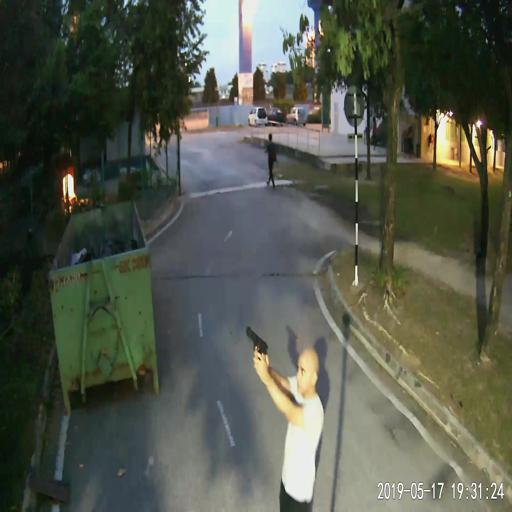pistol: (246, 328, 268, 370)
